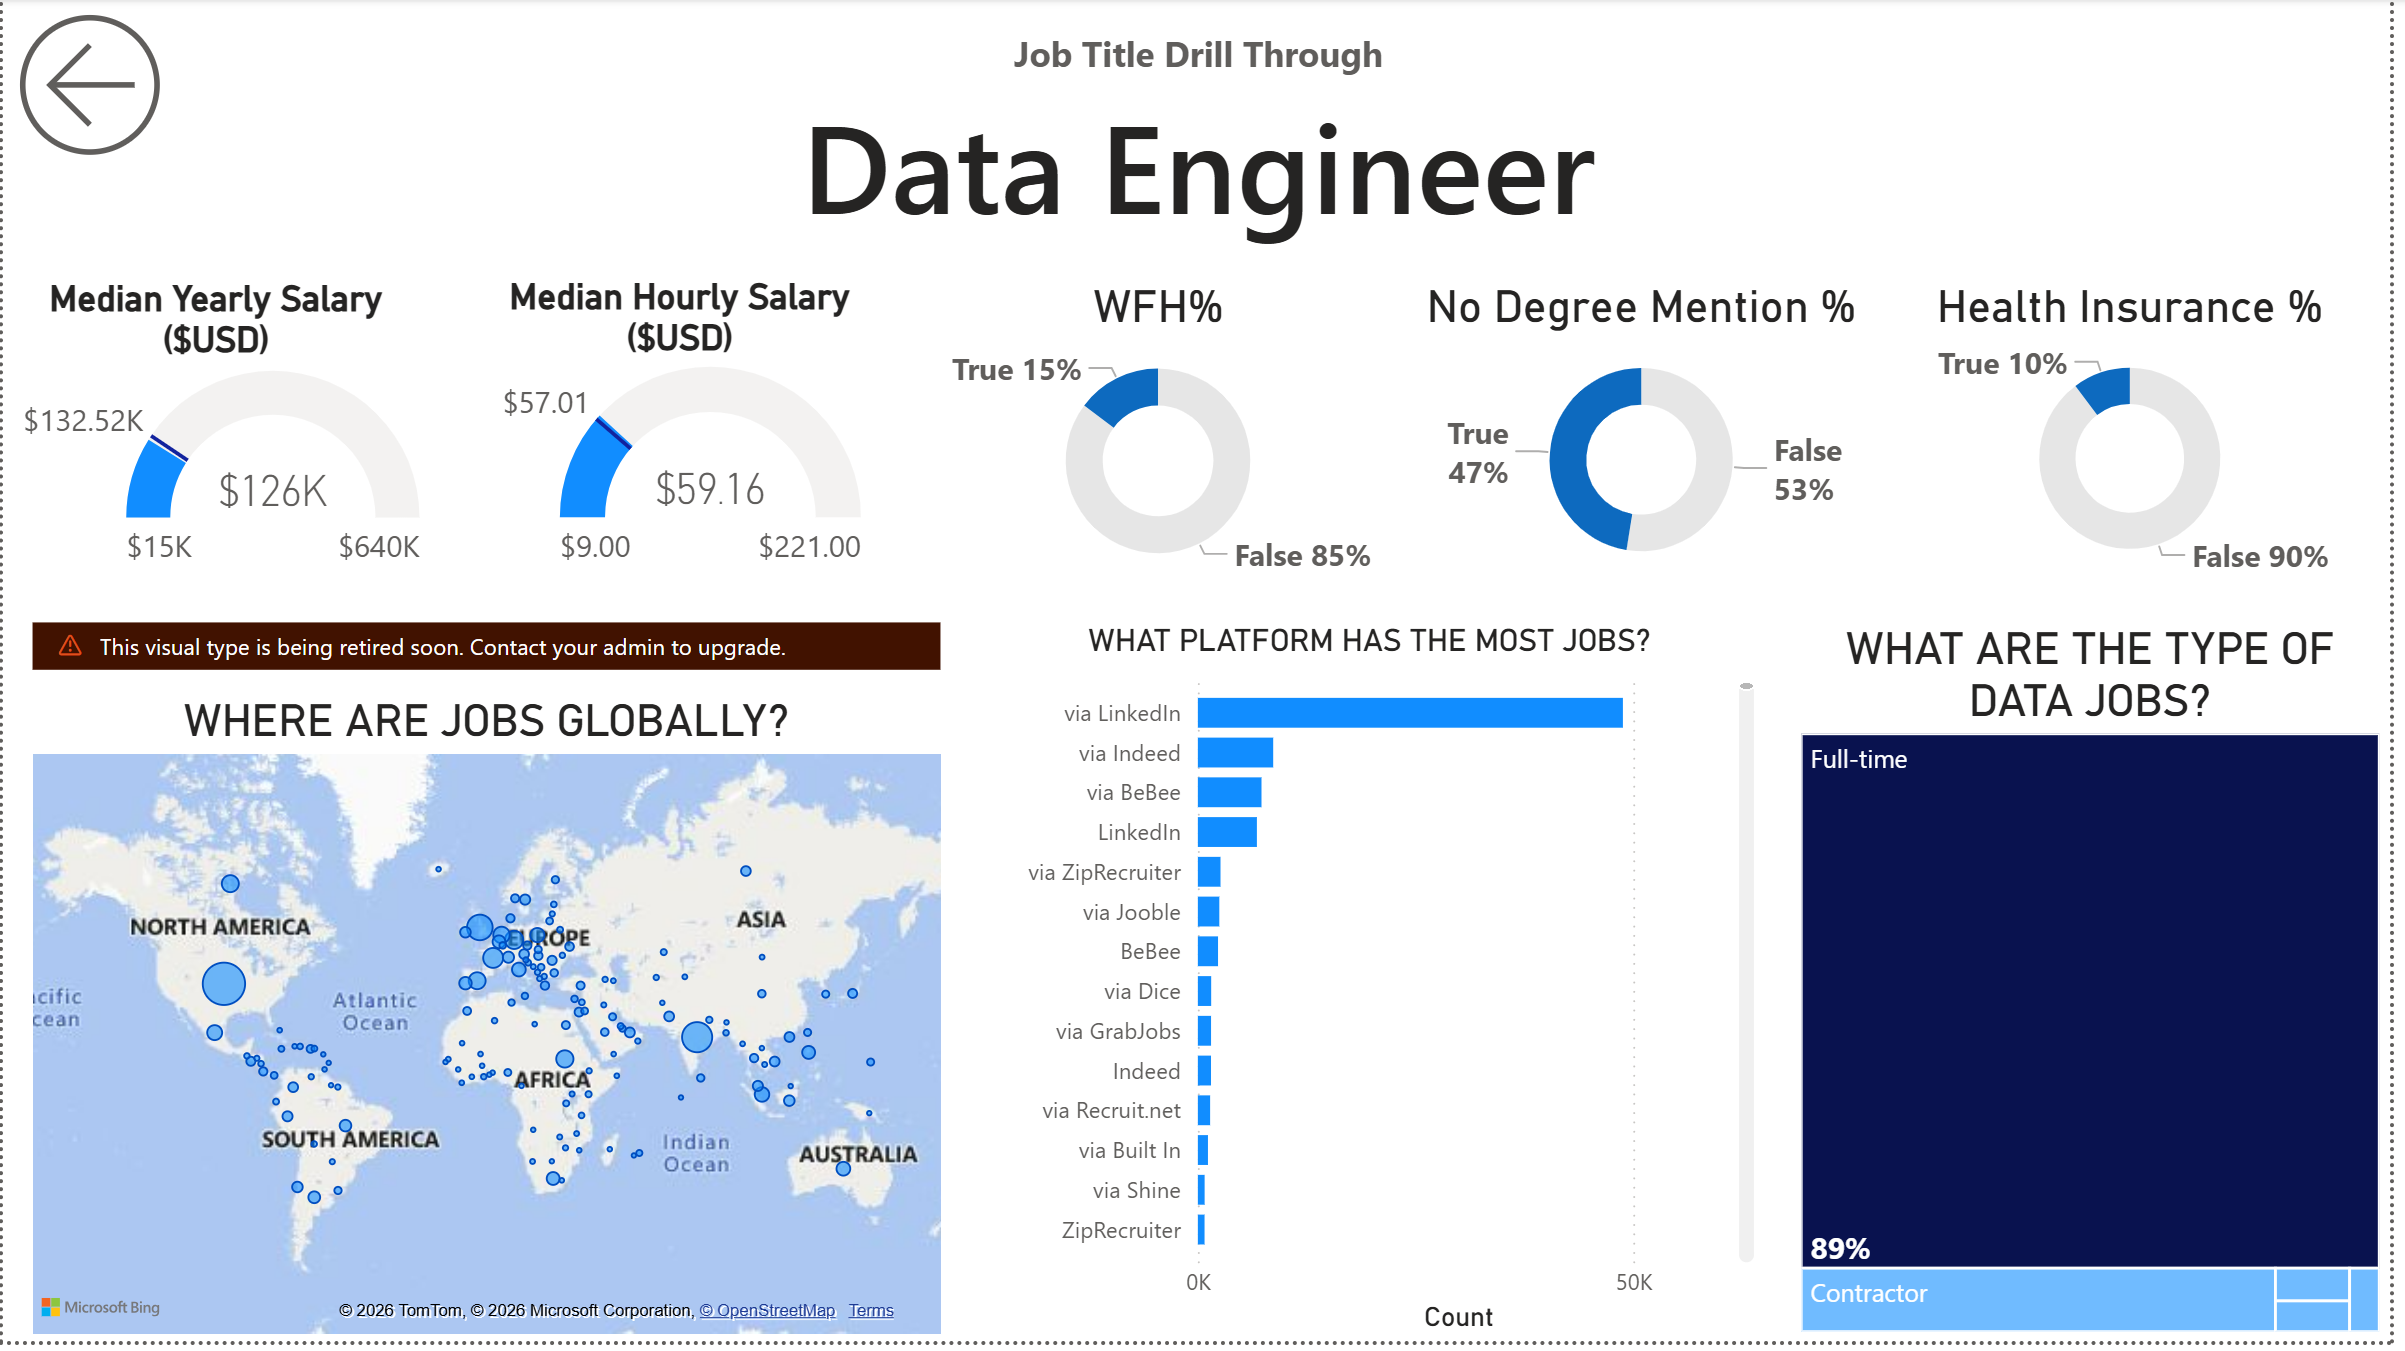

The dashboard page shown, as its layout file describes it:
{"tool":"powerbi","page":{"name":"Job Title Drill Through","canvas":[1280,720],"ordinal":1},"visuals":[{"type":"cardVisual","fields":{"Data":["Min(job_postings_flat.job_title_short)"]},"box":[191.5,0,899.6,149.7],"z":0},{"type":"actionButton","box":[0,0,111,93.3],"z":1000},{"type":"gauge","title":"Median Yearly Salary ($USD)","fields":{"Y":["Median(job_postings_flat.salary_year_avg)"],"MinValue":["Min(job_postings_flat.salary_year_avg)1"],"MaxValue":["Max(job_postings_flat.salary_year_avg)2"],"TargetValue":["Avg(job_postings_flat.salary_year_avg)3"]},"box":[0,149.6,228.4,165.9],"z":2000},{"type":"gauge","title":"Median Hourly Salary ($USD)","fields":{"Y":["Median(job_postings_flat.salary_hour_avg)"],"MinValue":["Min(job_postings_flat.salary_hour_avg)1"],"MaxValue":["Max(job_postings_flat.salary_hour_avg)2"],"TargetValue":["Avg(job_postings_flat.salary_hour_avg)3"]},"box":[243.4,148.2,237.9,165.9],"z":3000},{"type":"donutChart","title":"WFH%","fields":{"Y":["CountNonNull(job_postings_flat.job_work_from_home)"],"Category":["job_postings_flat.job_work_from_home"]},"box":[497.7,150.9,243.4,167.2],"z":4000},{"type":"donutChart","title":"No Degree Mention %","fields":{"Y":["CountNonNull(job_postings_flat.job_no_degree_mention)"],"Category":["job_postings_flat.job_no_degree_mention"]},"box":[754.6,150.9,247.5,165.9],"z":5000},{"type":"donutChart","title":"Health Insurance %","fields":{"Category":["job_postings_flat.job_health_insurance"],"Y":["CountNonNull(job_postings_flat.job_health_insurance)"]},"box":[1019.8,150.9,242,164.5],"z":6000},{"type":"map","title":"WHERE ARE JOBS GLOBALLY?","fields":{"Category":["job_postings_flat.job_country"],"Size":["CountNonNull(job_postings_flat.job_title_short)"]},"box":[10.5,334.3,496.9,386.7],"z":7000},{"type":"treemap","title":"WHAT ARE THE TYPE OF DATA JOBS?","fields":{"Values":["CountNonNull(job_postings_flat.job_schedule_type)"],"Details":["job_postings_flat.job_schedule_type"]},"box":[959.7,334.3,319.9,385.4],"z":8000},{"type":"barChart","title":"WHAT PLATFORM HAS THE MOST JOBS?","fields":{"Category":["job_postings_flat.job_via"],"Y":["CountNonNull(job_postings_flat.job_via)"]},"box":[521.8,334.3,422.1,385.4],"z":9000}]}

Visuals, with their boxes in screenshot pixels (x1, y1, x2, y2), scaled from the page's 1280x720 canvas onto the 2405x1351 screenshot:
cardVisual - Min(job_postings_flat.job_title_short): (360,0,2050,281)
actionButton: (0,0,209,175)
"Median Yearly Salary ($USD)" gauge: (0,281,429,592)
"Median Hourly Salary ($USD)" gauge: (457,278,904,589)
"WFH%" donutChart: (935,283,1392,597)
"No Degree Mention %" donutChart: (1418,283,1883,594)
"Health Insurance %" donutChart: (1916,283,2371,592)
"WHERE ARE JOBS GLOBALLY?" map: (20,627,953,1350)
"WHAT ARE THE TYPE OF DATA JOBS?" treemap: (1803,627,2404,1350)
"WHAT PLATFORM HAS THE MOST JOBS?" barChart: (980,627,1773,1350)
